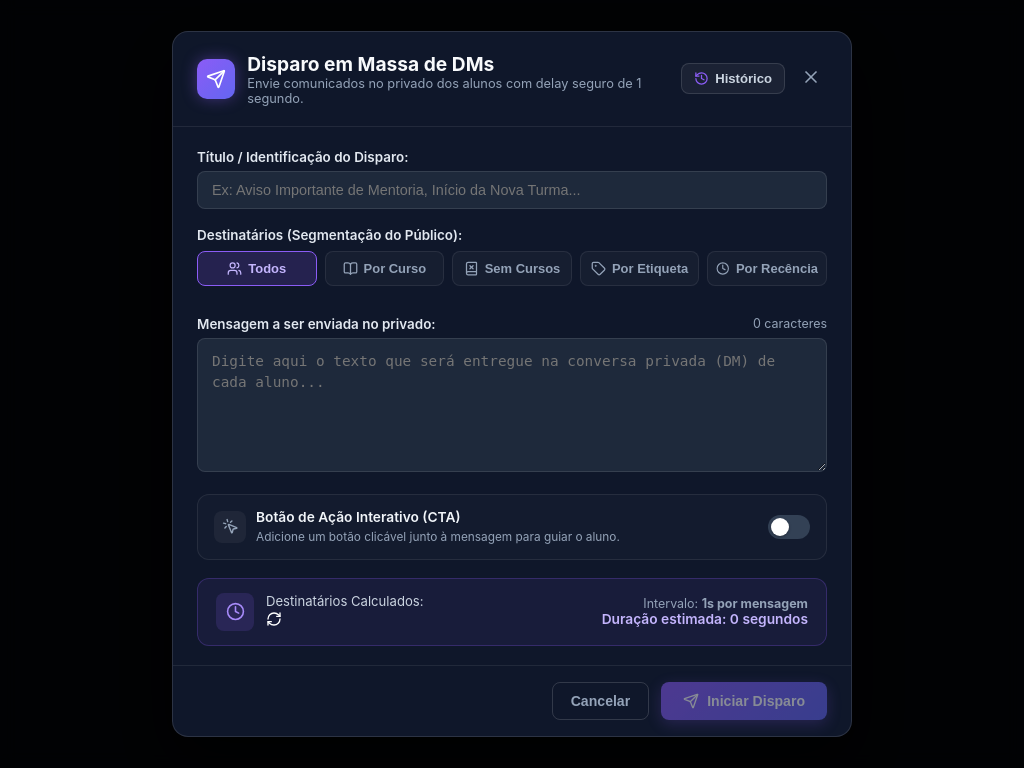
Test: ChatBroadcastModal Component › switches to course filter and shows course select dropdown
Click the button with test id "filter-type-course-btn" at [384, 268], box left=325, top=251, right=444, bottom=286
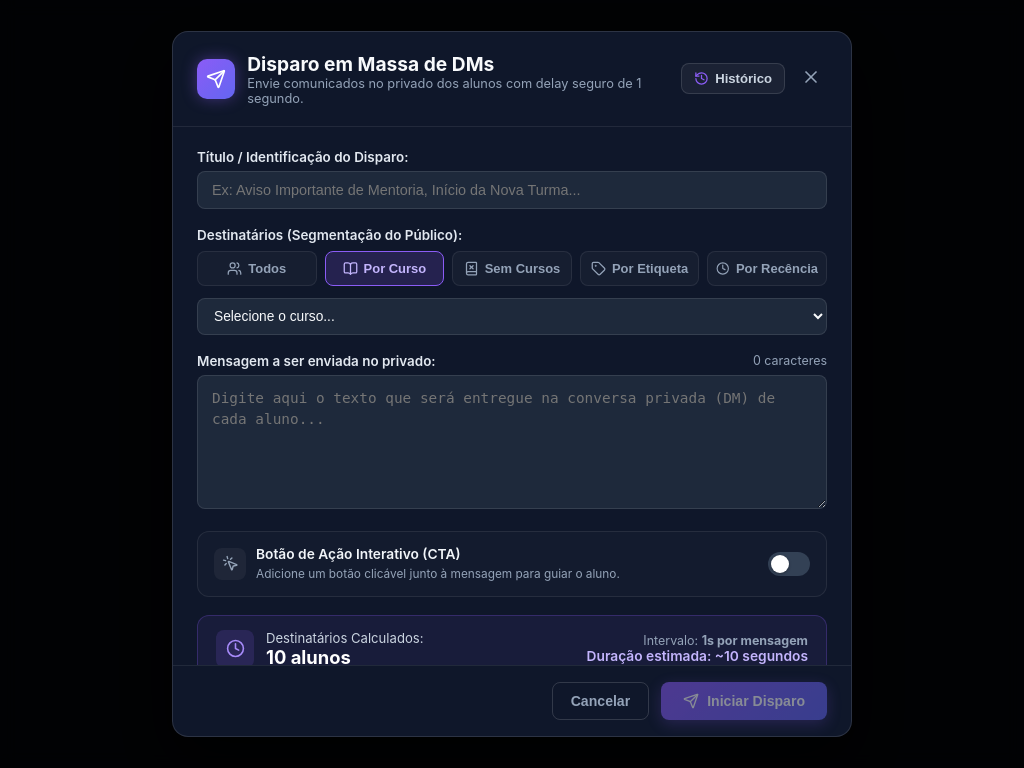
Expected: the dropdown with test id "select-broadcast-course" is shown, left=197, top=298, right=827, bottom=335
